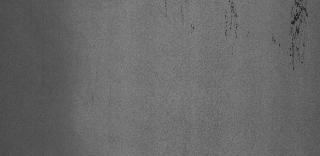inclusion: (161, 4, 199, 34), (267, 33, 283, 69)
silk spot: (287, 4, 313, 70), (219, 2, 245, 38)
